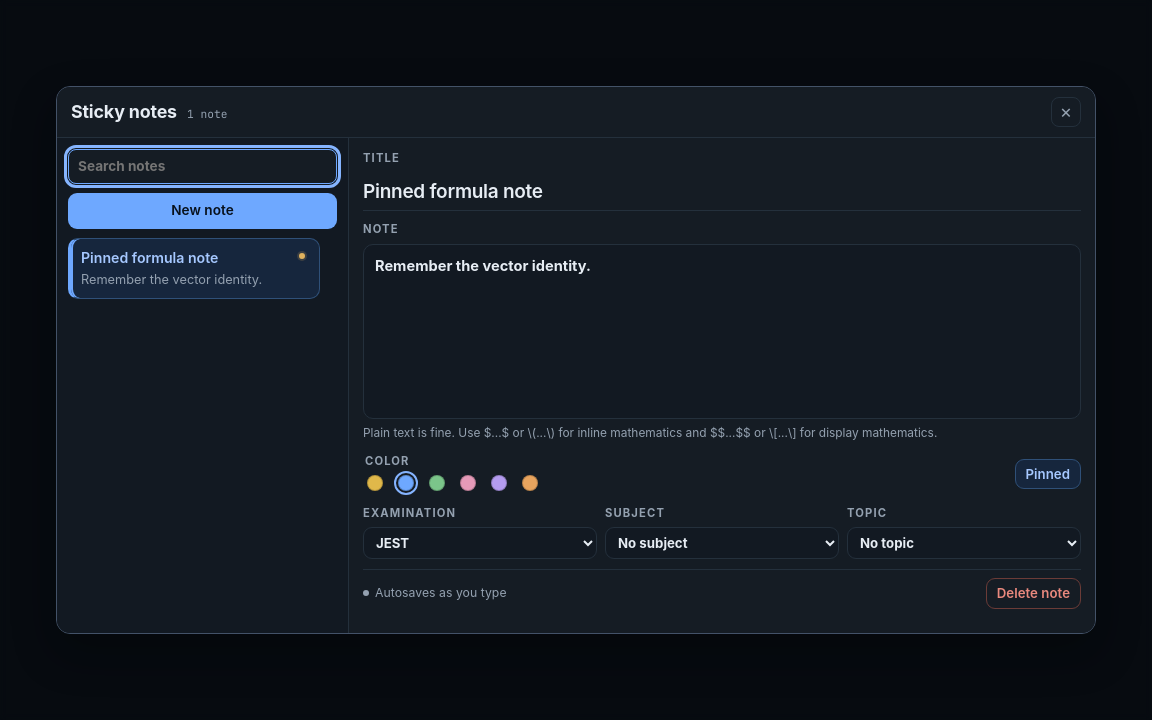
Test: Notes surfaces › filters notes immediately across title, body, exam, subject and topic
The image size is (1152, 720).
Type "pinned" into the search field named "Search sticky notes" at (202, 167), box [68,149,337,184]
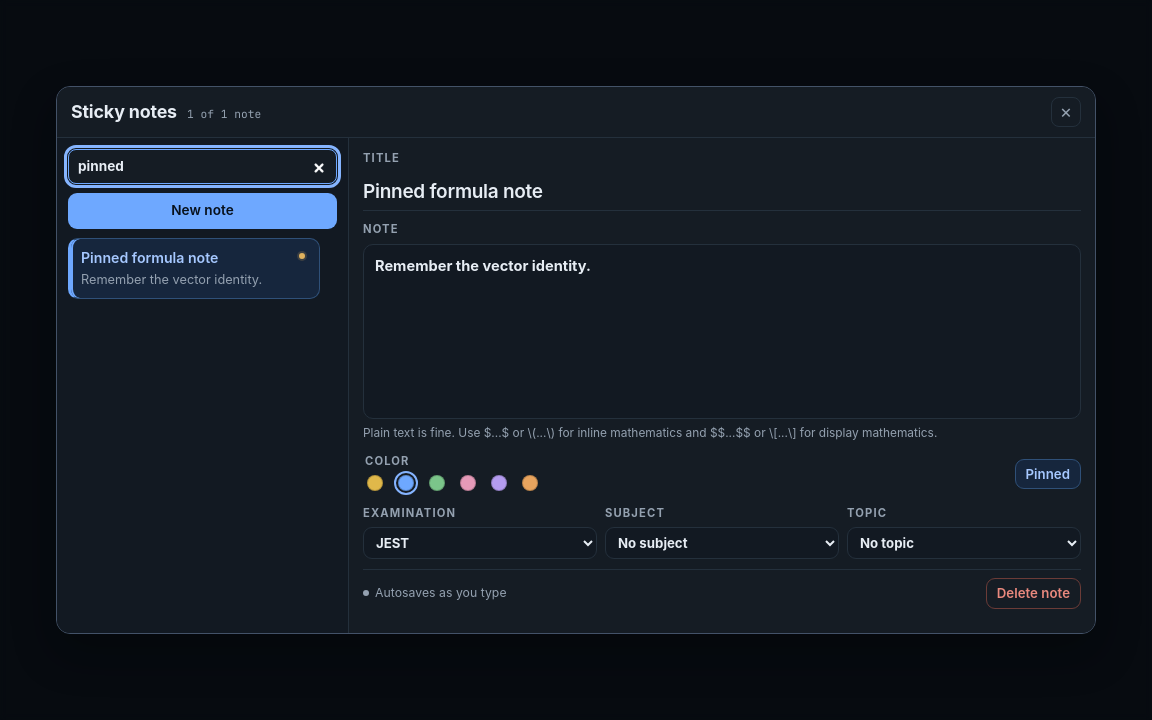
Expected: the button with aria-label "Open sticky note Pinned formula note (pinned)" is shown, [68,238,320,299]
Replace the text in the search field named "Search sticky notes" with "vector identity" at (202, 167), box [68,149,337,184]
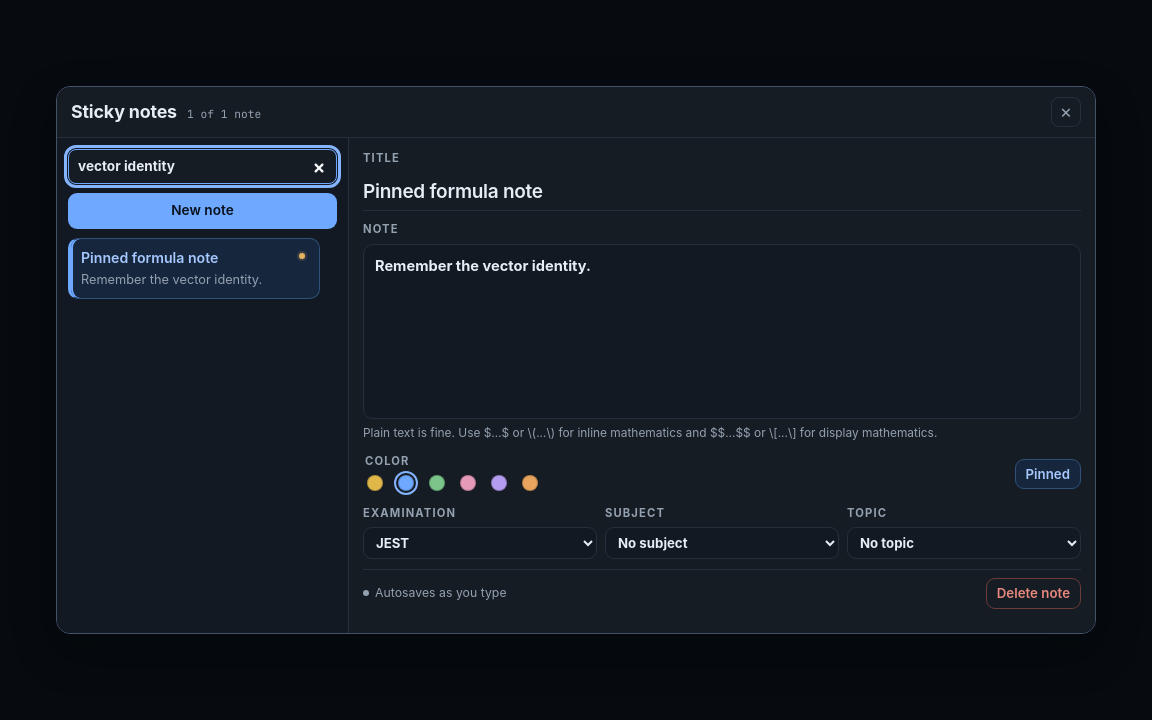
Expected: the button with aria-label "Open sticky note Pinned formula note (pinned)" is shown, [68,238,320,299]
Replace the text in the search field named "Search sticky notes" with "jest-physics" at (202, 167), box [68,149,337,184]
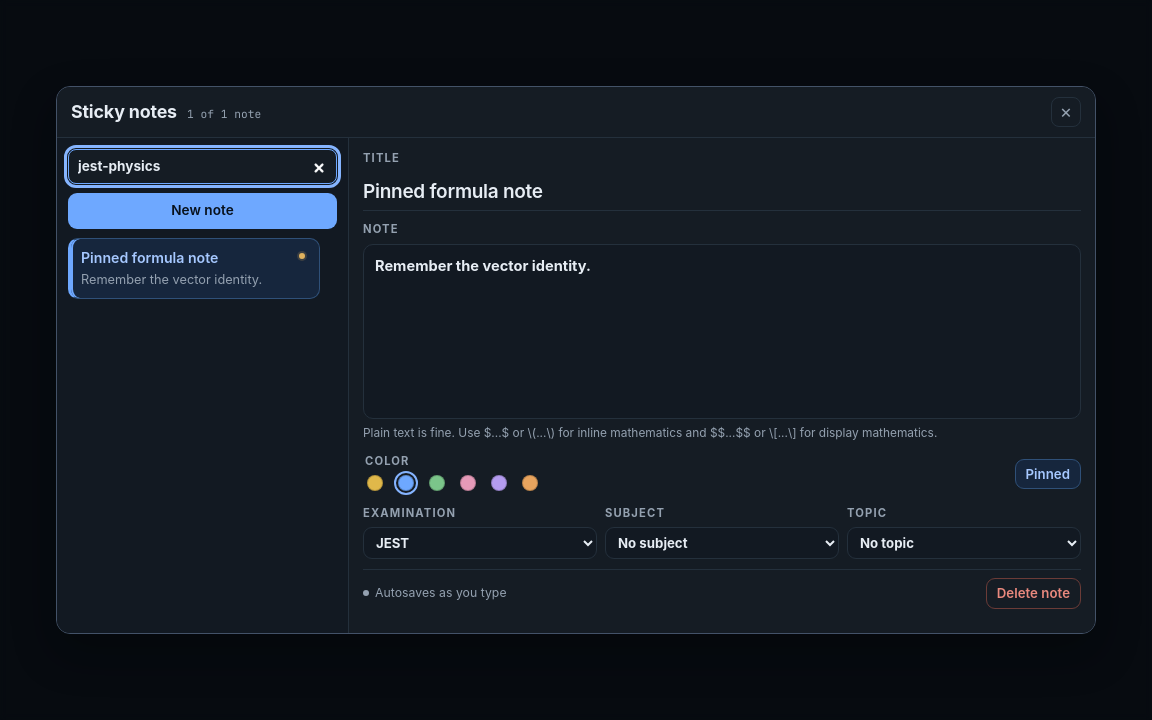
Expected: the button with aria-label "Open sticky note Pinned formula note (pinned)" is shown, [68,238,320,299]
Replace the text in the search field named "Search sticky notes" with "mathematical methods" at (202, 167), box [68,149,337,184]
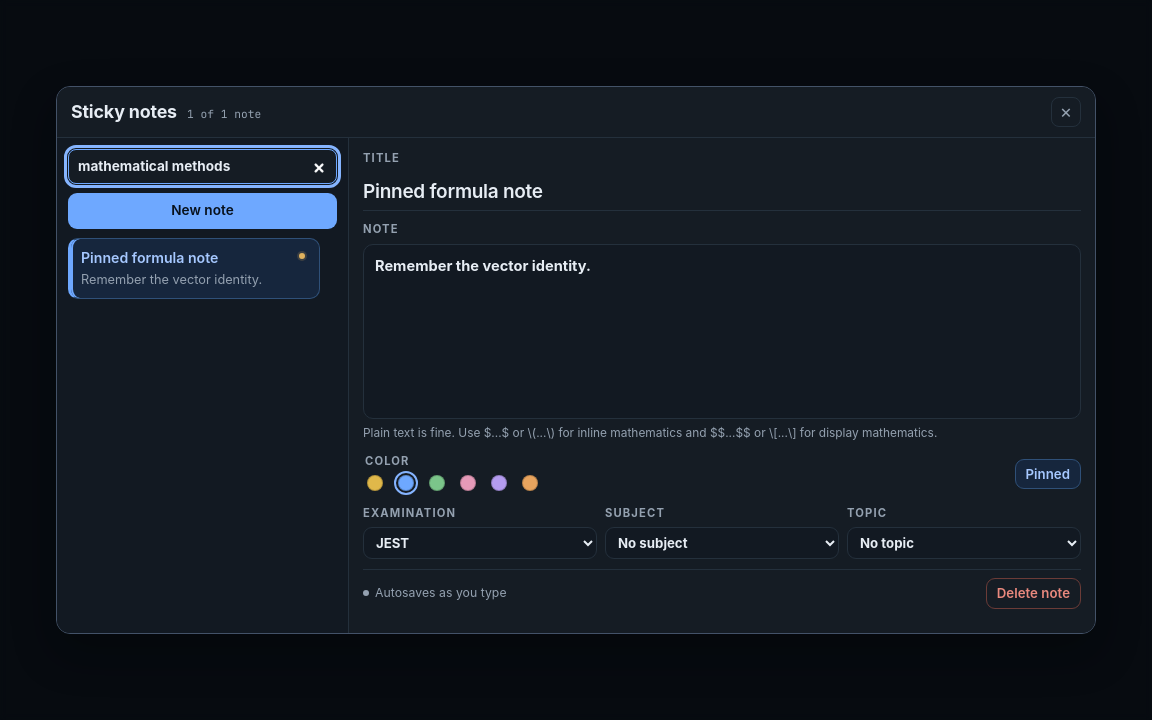
Expected: the button with aria-label "Open sticky note Pinned formula note (pinned)" is shown, [68,238,320,299]
Replace the text in the search field named "Search sticky notes" with "vector calculus" at (202, 167), box [68,149,337,184]
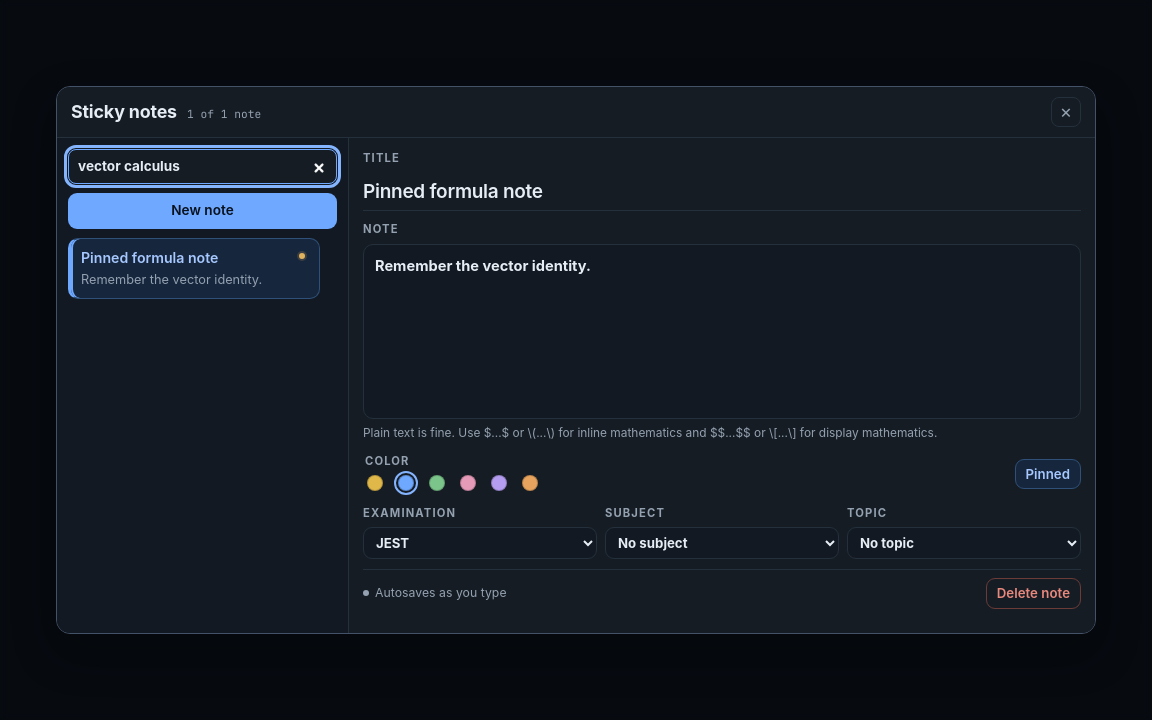
Expected: the button with aria-label "Open sticky note Pinned formula note (pinned)" is shown, [68,238,320,299]
Replace the text in the search field named "Search sticky notes" with "nothing matches this note" at (202, 167), box [68,149,337,184]
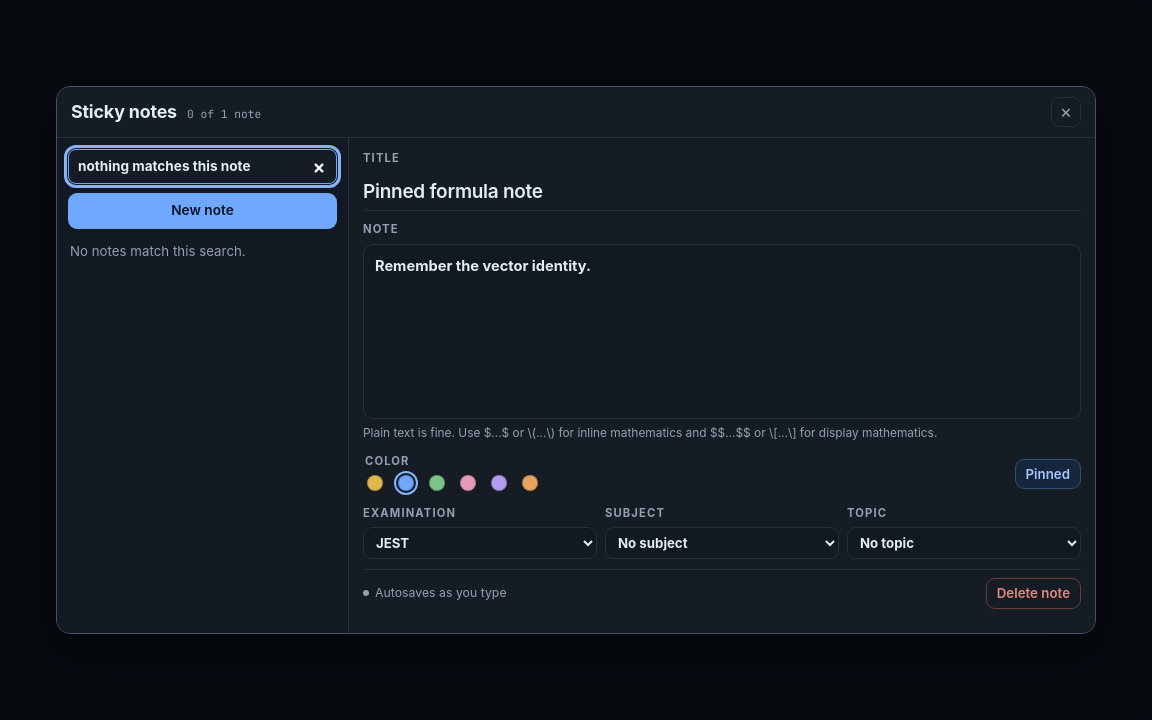
Expected: the text "No notes match this search." is shown, [70,242,246,258]
